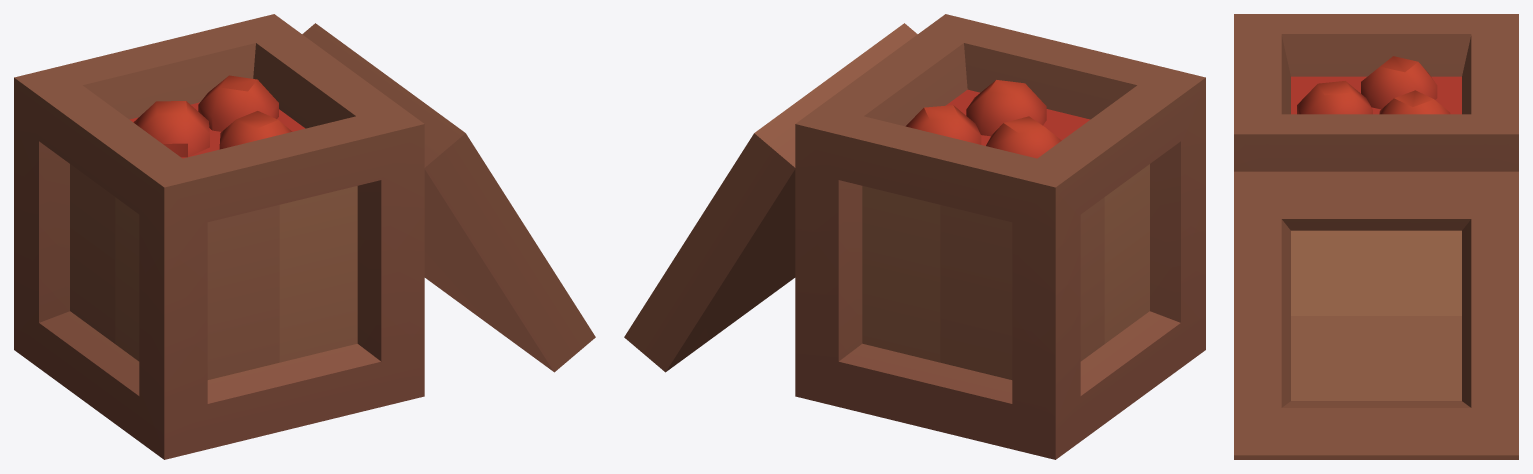
Rendered from H_crate_open.glb.
The picture shows the model from 3 angles, left to right: view 1: azimuth 30°, elevation 25°; view 2: azimuth 150°, elevation 25°; view 3: azimuth 270°, elevation 25°; orthographic projection. The views are drawn at different scales.
Visible parts, largest first — view 1: crate_open; view 2: crate_open; view 3: crate_open.
Part boxes in pixels (x1,y1,x2,y2): crate_open: (14,14,595,459); crate_open: (624,14,1205,459); crate_open: (1234,14,1518,459).
Size of the model in its own units: 0.3316 by 0.2056 by 0.2.
